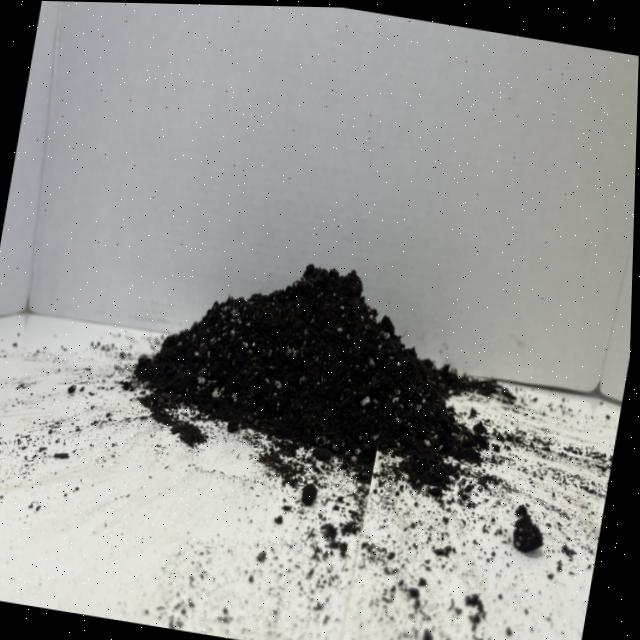soil: (116, 232, 519, 503)
